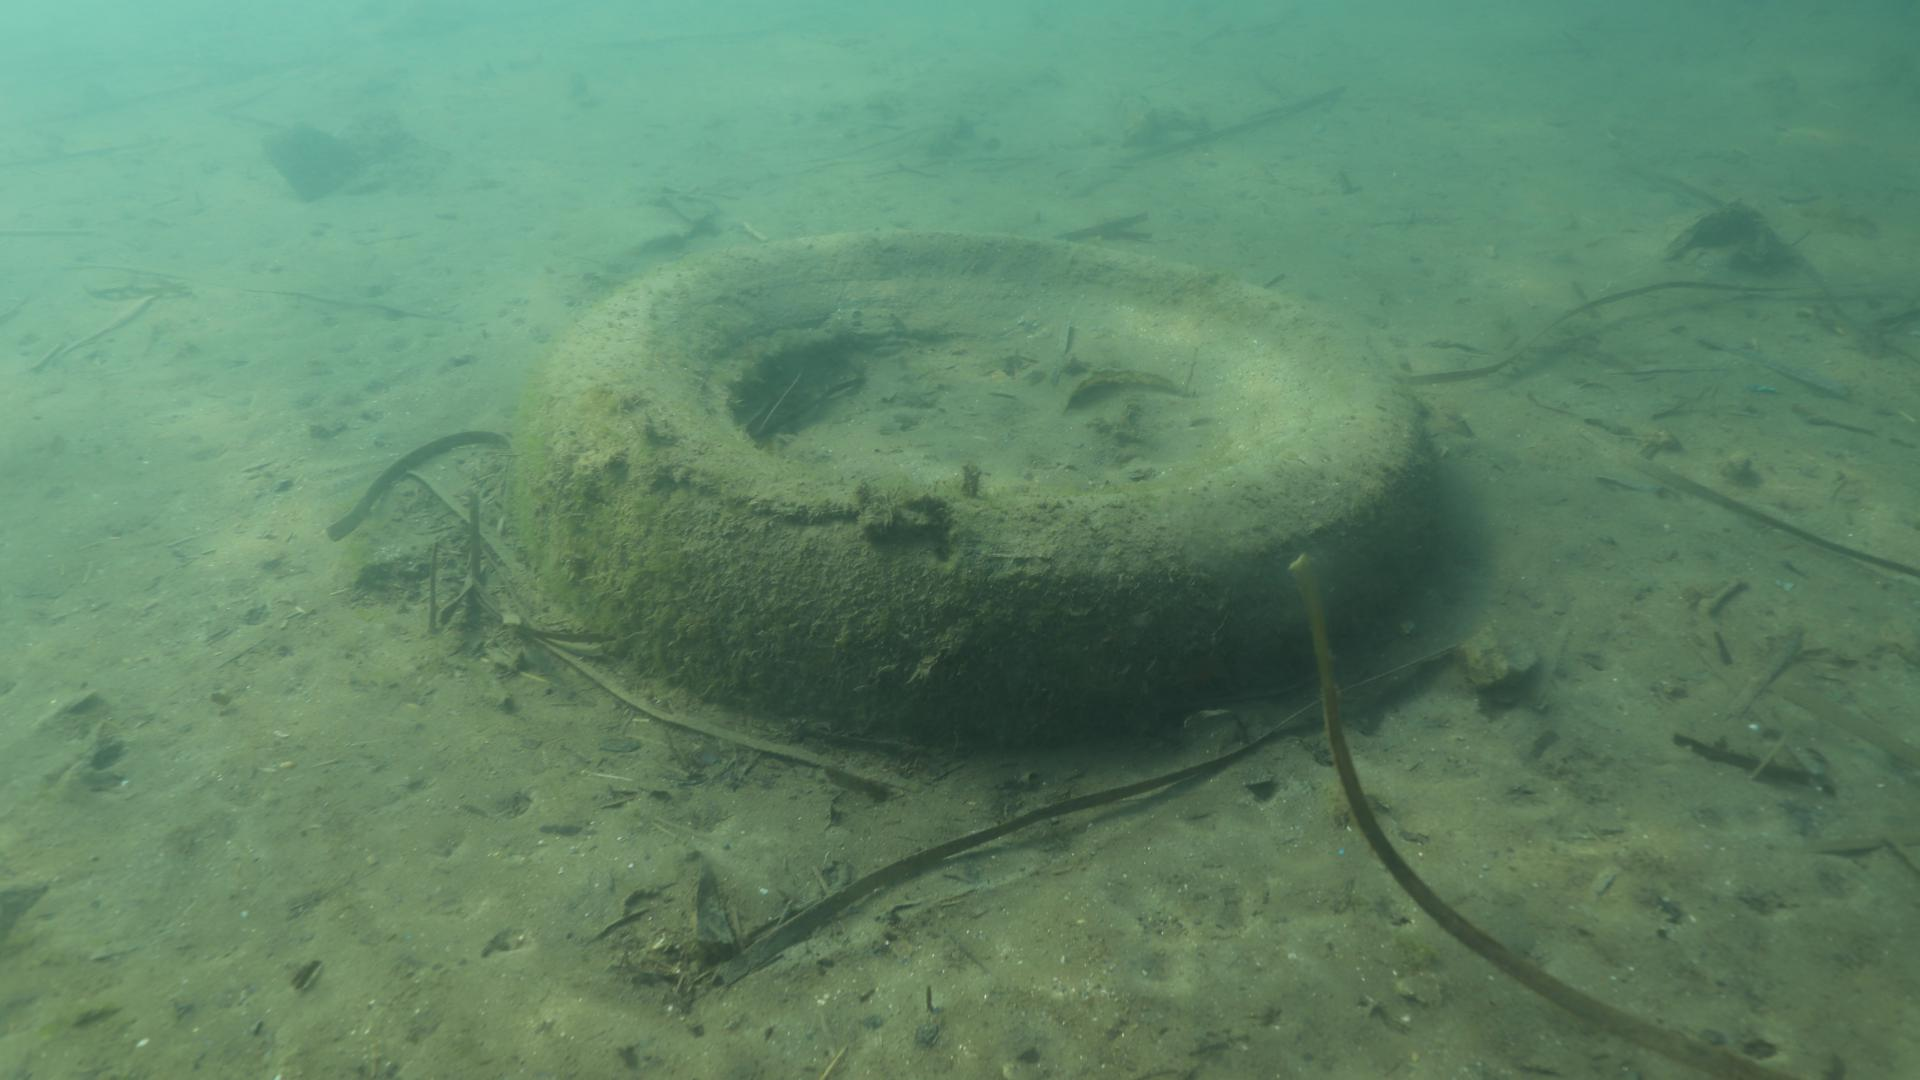tire: (533, 225, 1431, 749)
